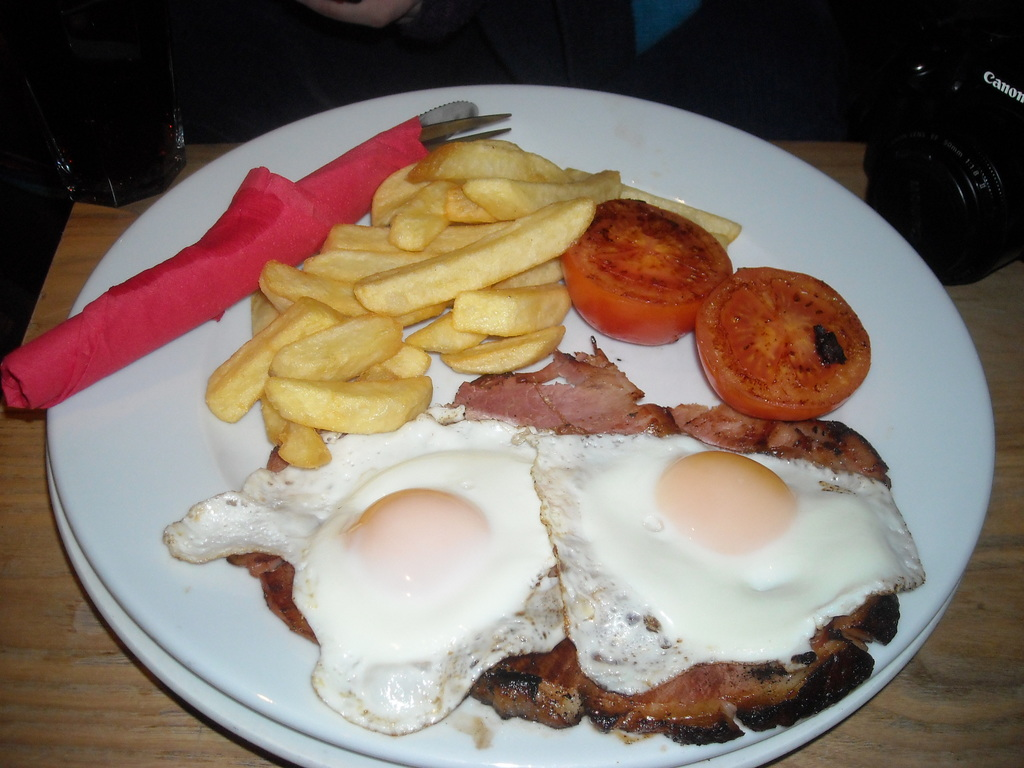French fries: (258, 131, 616, 428)
